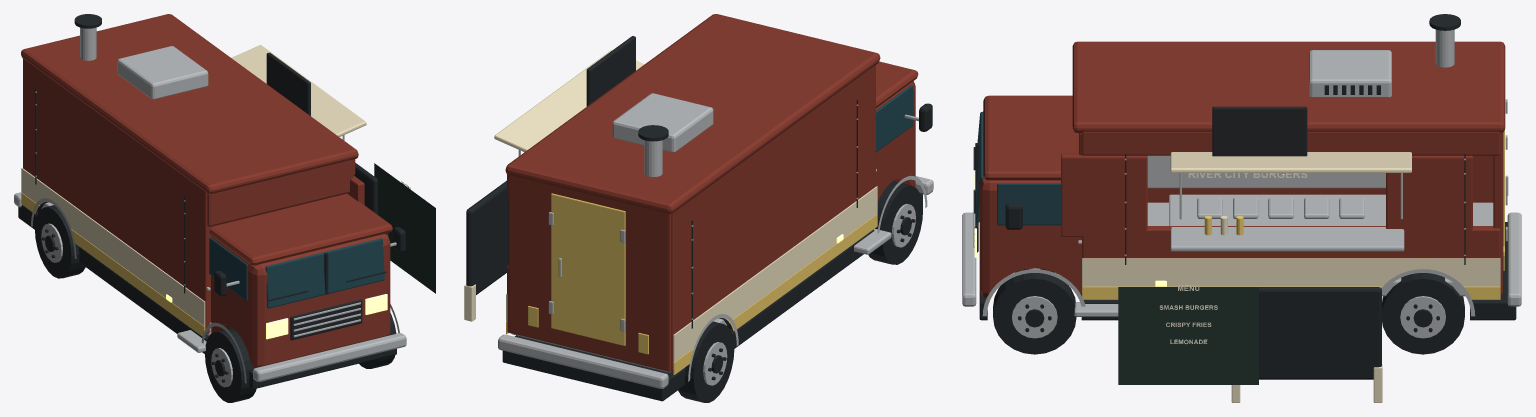
File: burger-truck.glb
3 renders of one model, left to right at view 1: azimuth 30°, elevation 25°; view 2: azimuth 150°, elevation 25°; view 3: azimuth 270°, elevation 25°, orthographic. The views are drawn at different scales.
Visible parts, largest first — view 1: RIVER CITY BURGERS Sauce Pitt cobalt enamel, Closed left wall, Rubber and charcoal, Brushed stainless, Blue cab glass, Yellow belt, Menu black, RIVER CITY BURGERS Warm yellow stripe, Burgundy skirt, LCD bezel, Warm service lights; view 2: RIVER CITY BURGERS Sauce Pitt cobalt enamel, Closed left wall, Rubber and charcoal, Brushed stainless, RIVER CITY BURGERS Burgundy enamel, Yellow belt, RIVER CITY BURGERS Warm yellow stripe, Burgundy skirt, LCD bezel, Blue cab glass; view 3: RIVER CITY BURGERS Sauce Pitt cobalt enamel, Brushed stainless, Rubber and charcoal, Menu black, Yellow belt.001, Service sill, RIVER CITY BURGERS Warm yellow stripe, LCD bezel, Blue cab glass, Closed left wall, Burgundy skirt.001, Vendor lettering / cream (+1 smaller).
Boxes of the visible parts, x1,y1,x2,y2 form: RIVER CITY BURGERS Sauce Pitt cobalt enamel: [21, 14, 392, 368]; Closed left wall: [23, 58, 210, 334]; Rubber and charcoal: [18, 14, 405, 402]; Brushed stainless: [14, 27, 406, 387]; Blue cab glass: [209, 233, 388, 308]; Yellow belt: [21, 168, 205, 326]; Menu black: [374, 163, 435, 293]; RIVER CITY BURGERS Warm yellow stripe: [231, 45, 366, 136]; Burgundy skirt: [21, 192, 205, 337]; LCD bezel: [266, 52, 310, 115]; Warm service lights: [166, 294, 387, 339]; RIVER CITY BURGERS Sauce Pitt cobalt enamel: [505, 14, 918, 371]; Closed left wall: [671, 65, 875, 371]; Rubber and charcoal: [466, 99, 932, 402]; Brushed stainless: [498, 93, 933, 388]; RIVER CITY BURGERS Burgundy enamel: [528, 193, 648, 354]; Yellow belt: [673, 186, 877, 362]; RIVER CITY BURGERS Warm yellow stripe: [464, 50, 644, 321]; Burgundy skirt: [673, 214, 877, 374]; LCD bezel: [586, 36, 635, 106]; Blue cab glass: [876, 85, 913, 152]; RIVER CITY BURGERS Sauce Pitt cobalt enamel: [979, 41, 1505, 297]; Brushed stainless: [962, 29, 1521, 338]; Rubber and charcoal: [973, 14, 1516, 379]; Menu black: [1118, 287, 1258, 384]; Yellow belt.001: [1082, 258, 1500, 286]; Service sill: [1082, 226, 1500, 258]; RIVER CITY BURGERS Warm yellow stripe: [1170, 152, 1411, 402]; LCD bezel: [1212, 106, 1307, 156]; Blue cab glass: [976, 112, 1060, 225]; Closed left wall: [1147, 155, 1493, 202]; Burgundy skirt.001: [1082, 286, 1500, 299]; Vendor lettering / cream: [1159, 173, 1307, 344].
Bounding box in the file's own units: 4.43 × 3.81 × 7.09.
